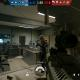Character: (35, 35, 48, 73)
Head: (40, 35, 46, 41)
